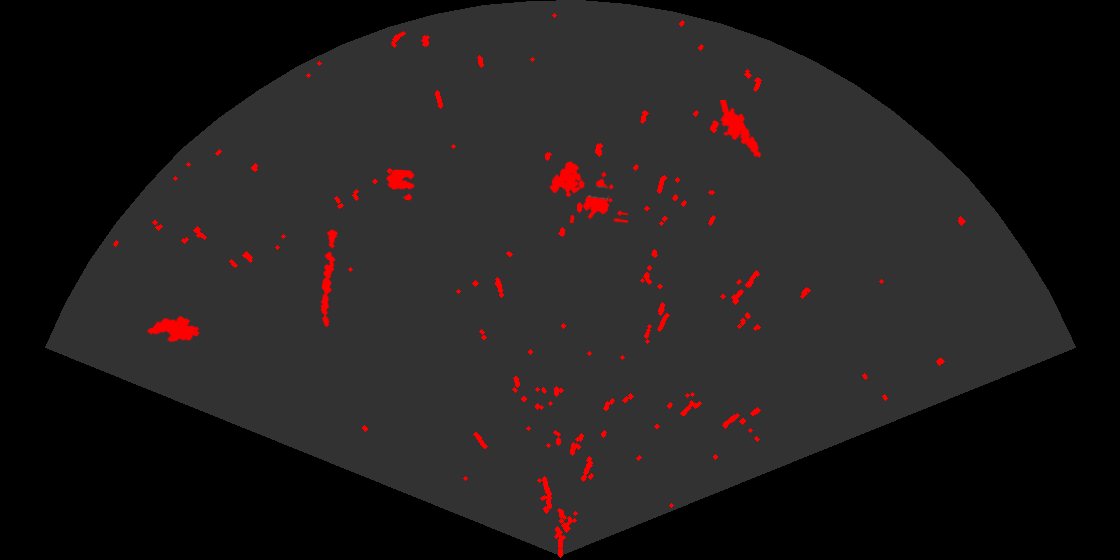AUV: (145, 314, 202, 344)
ball: (385, 168, 416, 202)
cage: (548, 160, 628, 223)
chain: (319, 227, 339, 328)
frogman: (718, 100, 763, 160)
